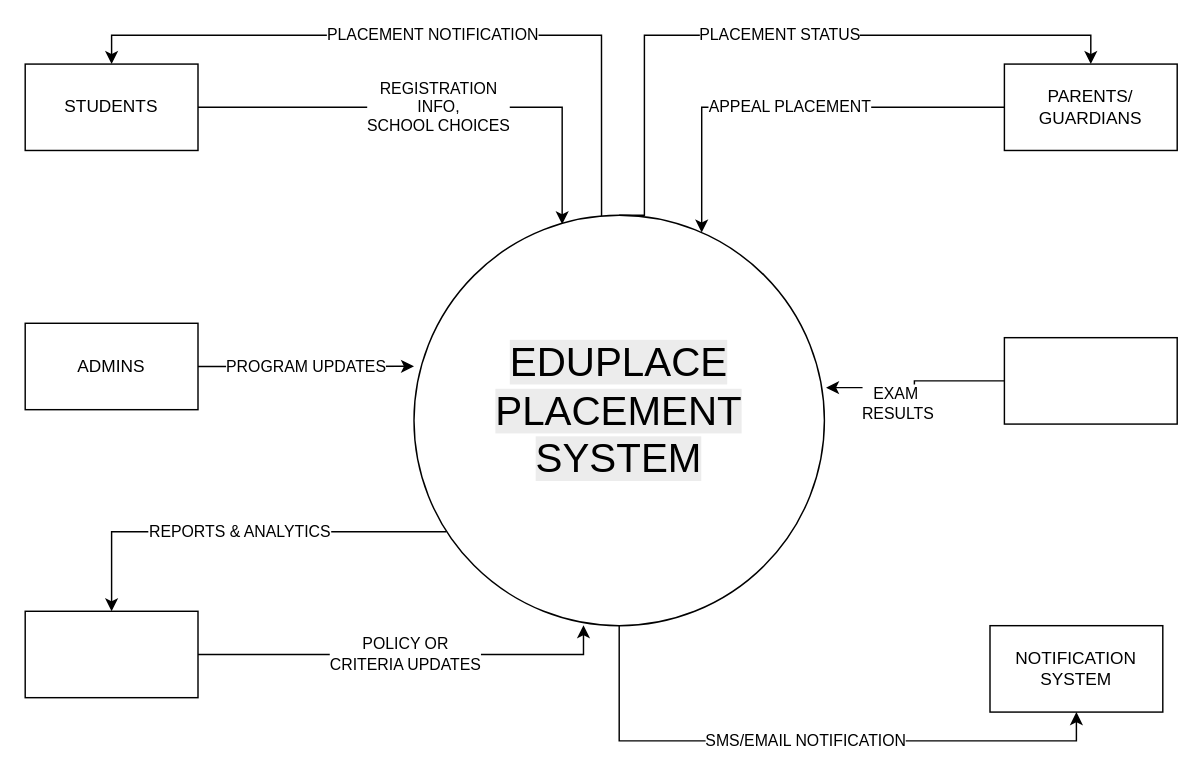
This 1202x778 diagram has some shape labels left out. Here are the shapes that lost their labels. From the top down, the box of each, then its label:
(1003, 336, 1177, 424): EXAM BODY
(24, 610, 198, 698): EDUCATION BOARD
